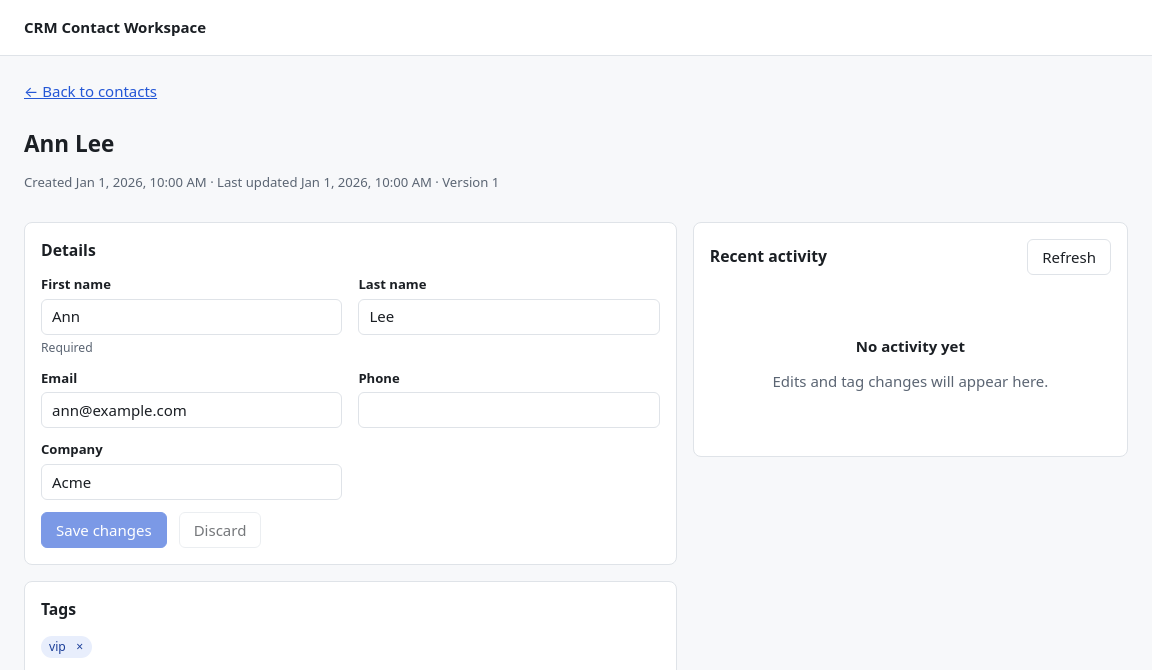
it: ContactDetailPage — editing › shows a network failure above the form and keeps the draft
Expected: the heading "Ann Lee" is shown, [24,128,114,158]
Replace the text in the field labelled "Company" with "Globex" at coordinates (192, 482), box [41,464,342,500]
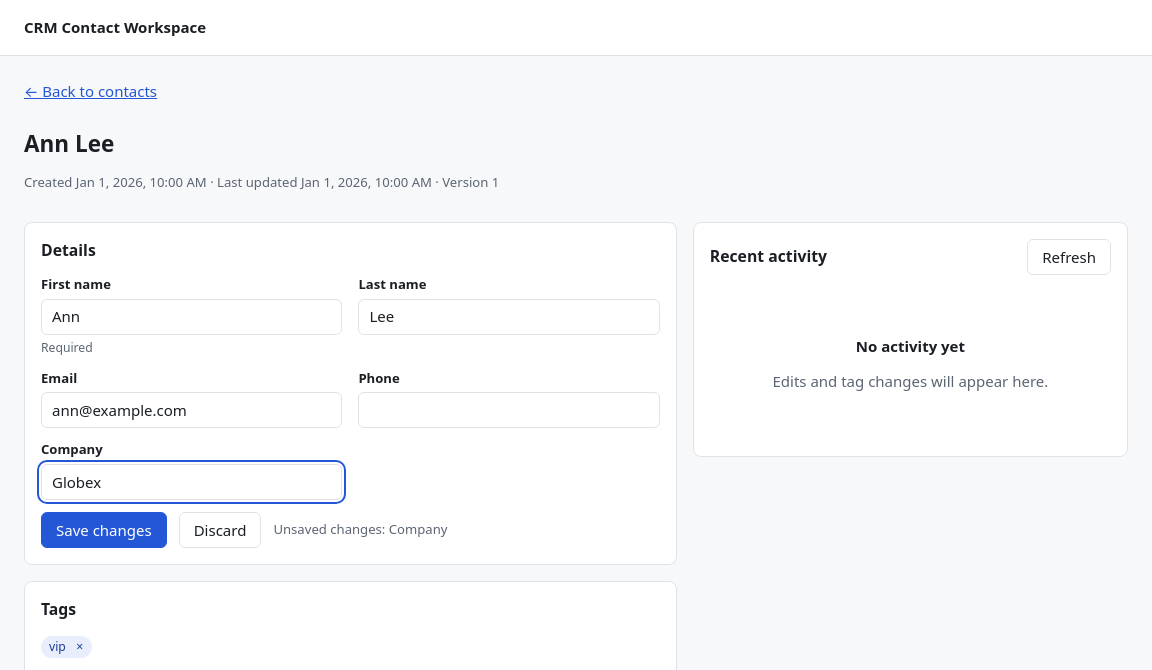
Click the button "Save changes" at coordinates (104, 530), box [41,512,167,548]
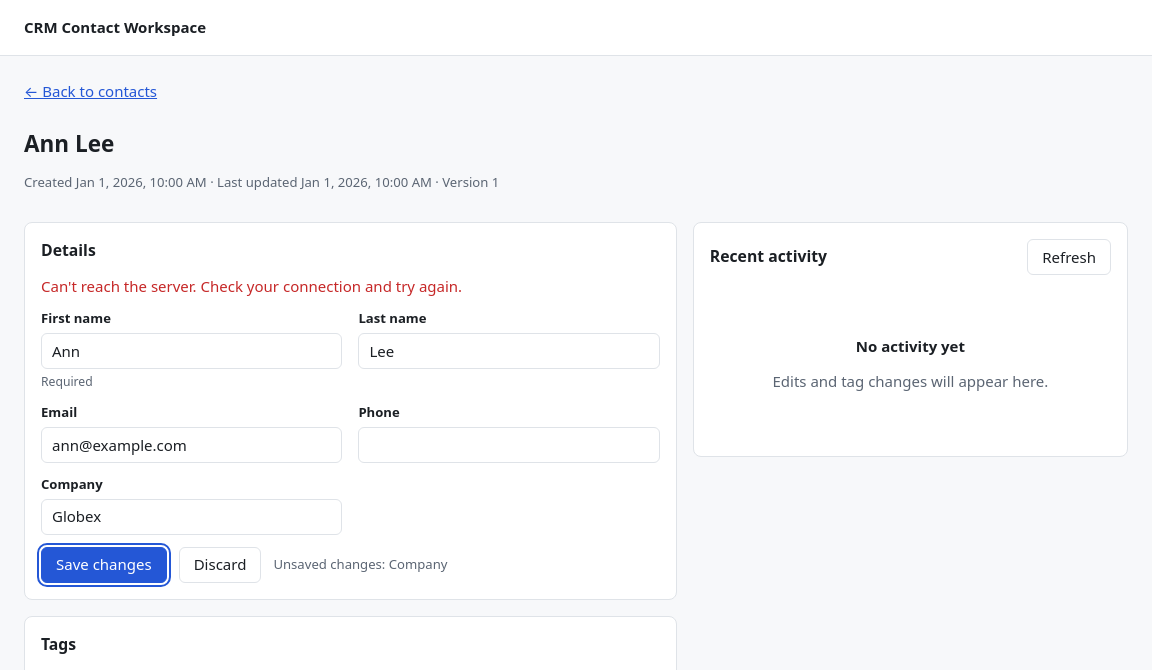
Expected: the button "Save changes" is enabled, [41,547,167,583]
Expected: the text "Can't reach the server. Check your connection and try again." is shown, [41,276,462,296]
